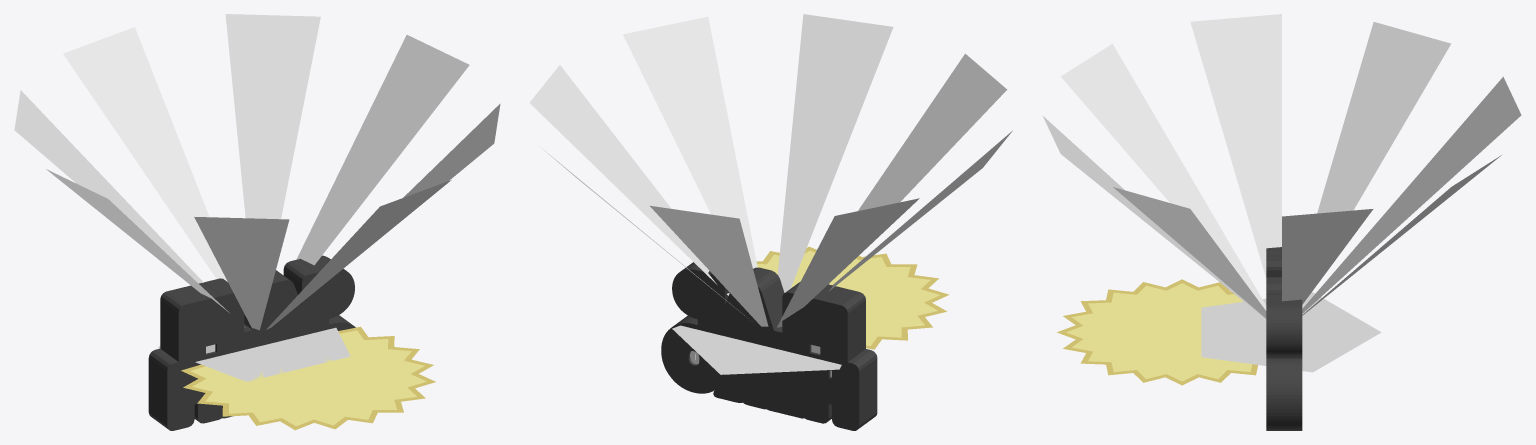
Rendered from Title.fbx.
The picture shows the model from 3 angles, left to right: view 1: azimuth 30°, elevation 25°; view 2: azimuth 150°, elevation 25°; view 3: azimuth 270°, elevation 25°; orthographic projection. The views are drawn at different scales.
Visible parts, largest first — view 1: Rays, BlackOutline, Stamp, Star; view 2: Rays, BlackOutline, Stamp, Star; view 3: Rays, Stamp, Star, BlackOutline.
Part boxes in pixels (x1=…): Rays: x1=14, y1=14, x2=500, y2=330; BlackOutline: x1=148, y1=255, x2=355, y2=430; Stamp: x1=181, y1=326, x2=435, y2=430; Star: x1=158, y1=327, x2=350, y2=381; Rays: x1=529, y1=14, x2=1012, y2=327; BlackOutline: x1=661, y1=262, x2=877, y2=430; Stamp: x1=756, y1=246, x2=949, y2=349; Star: x1=672, y1=325, x2=841, y2=374; Rays: x1=1043, y1=14, x2=1521, y2=319; Stamp: x1=1057, y1=279, x2=1257, y2=385; Star: x1=1201, y1=292, x2=1381, y2=372; BlackOutline: x1=1266, y1=247, x2=1302, y2=430.
Bounding box in the file's own units: 480 × 309 × 480.
